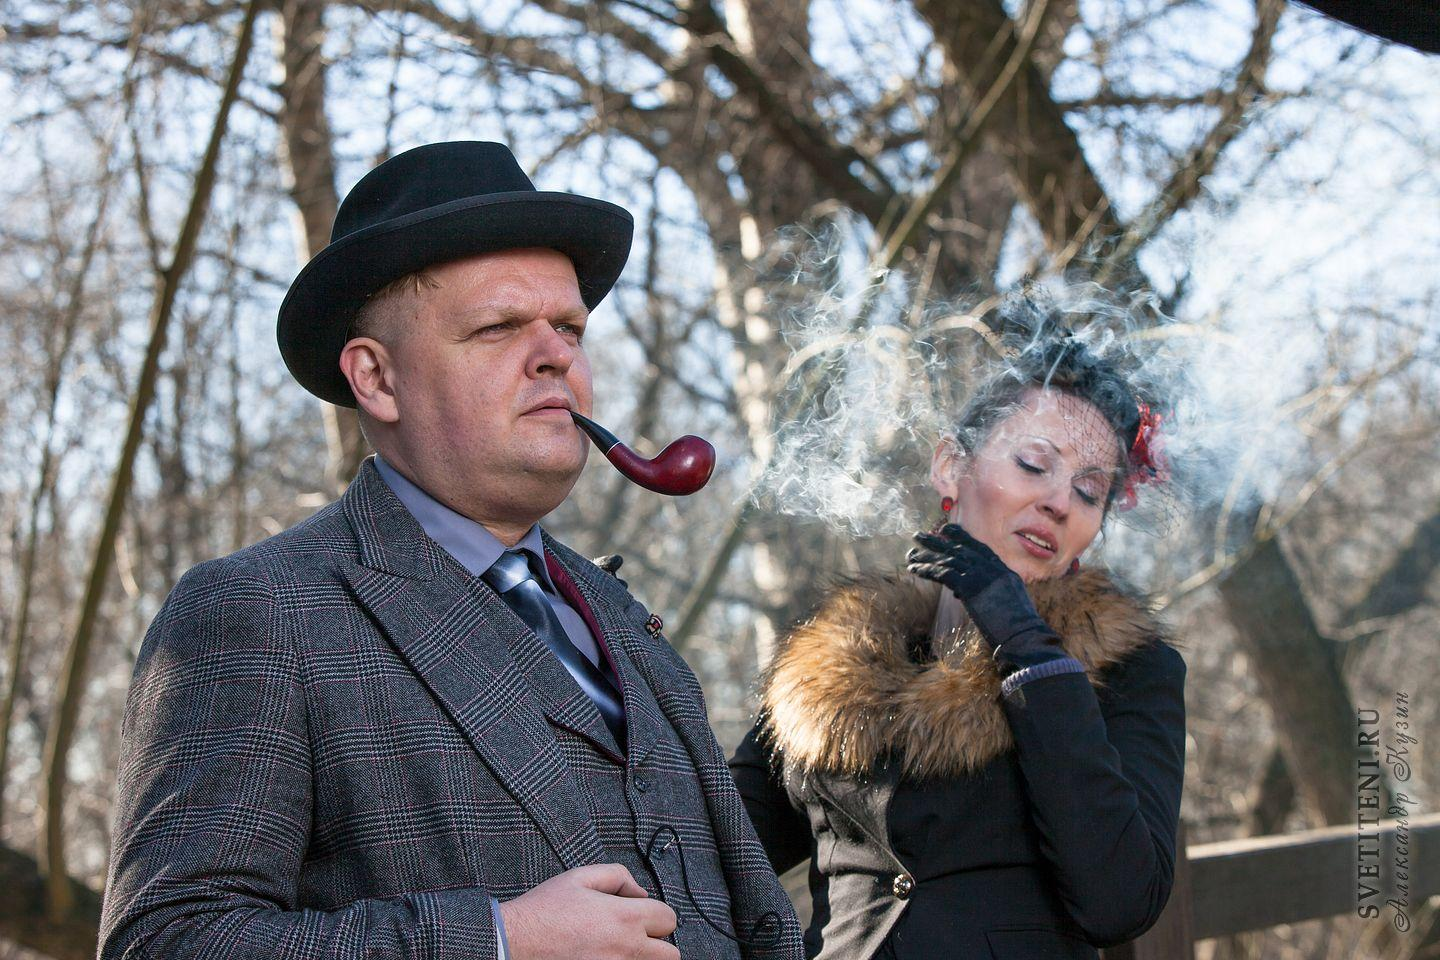trubka: (573, 414, 714, 495)
